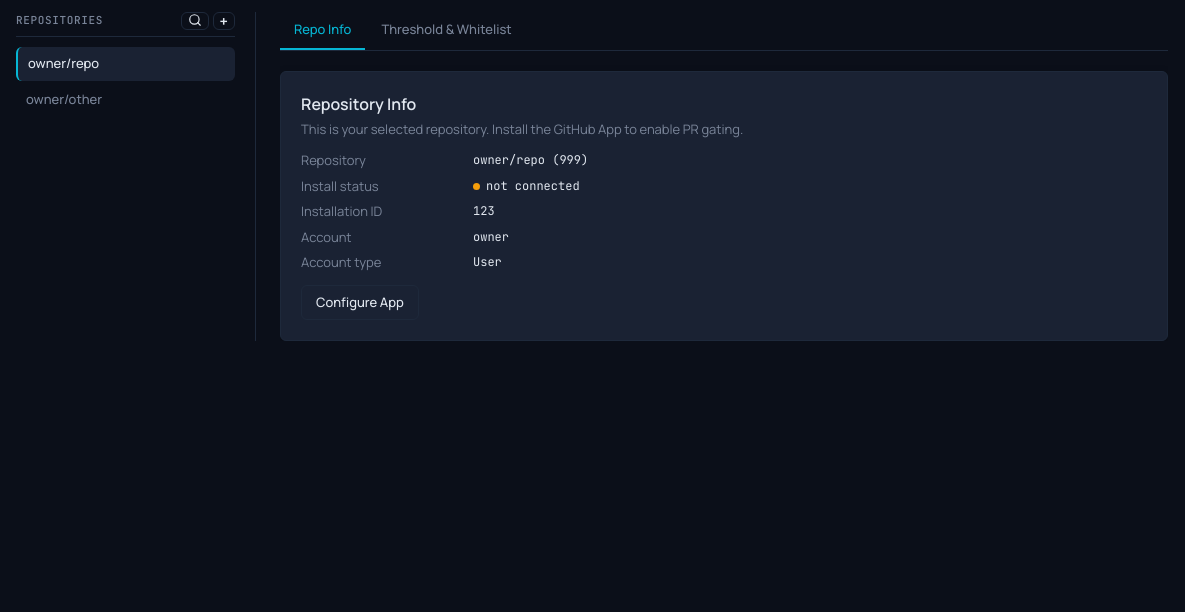
Test: OwnerPage flow › locks settings when the app account exists but the repository was disconnected
The image size is (1185, 612).
expect the button "owner/repo" is shown: met, box [16,47,235,80]
expect the text "not connected" is shown: met, box [473,177,580,195]
Click the button "Threshold & Whitelist": {"x": 447, "y": 31} [367,12,526,50]
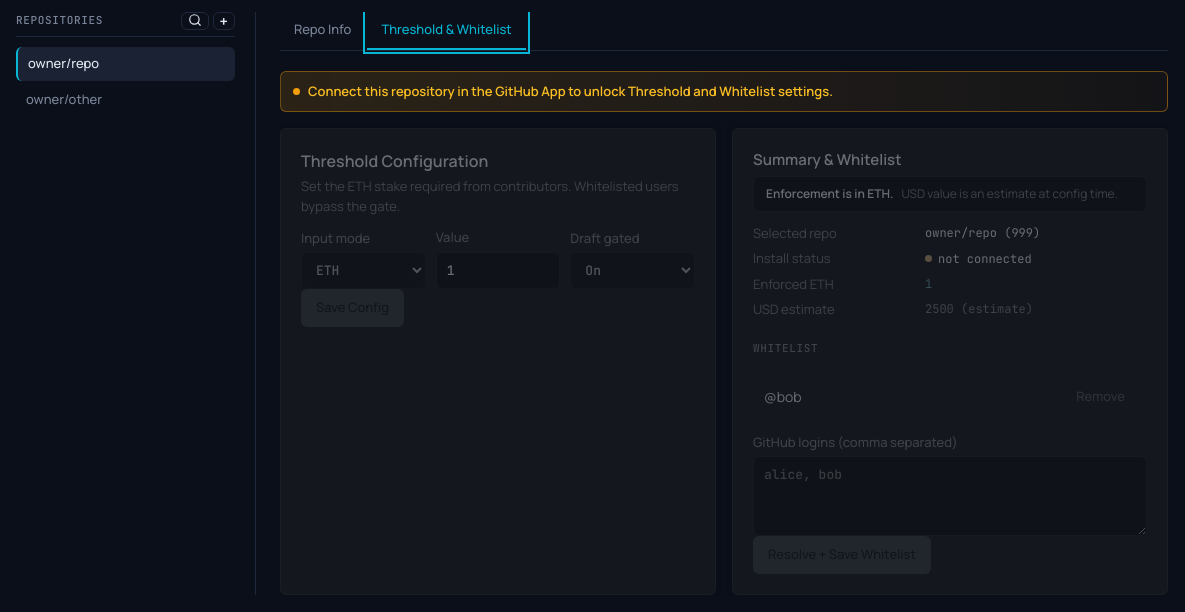
expect the text "Connect this repository in the GitHub App to unlock Threshold and Whitelist settings." is shown: met, box [308,82,833,100]
